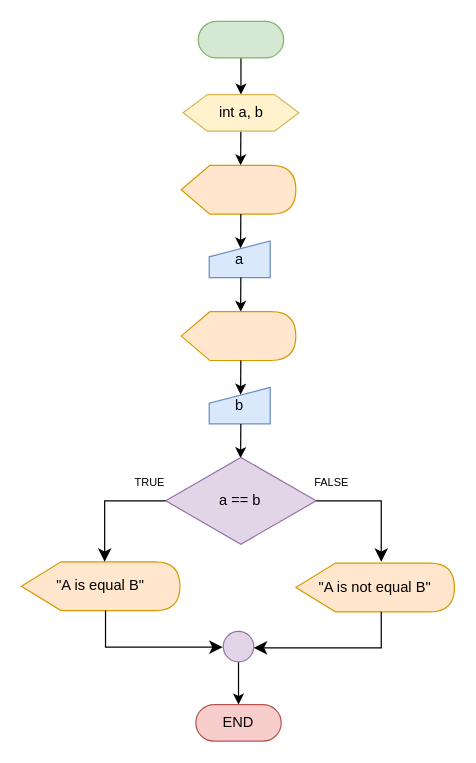
This 476x763 diagram has some shape labels left out. The centre of each missing label's shape, as x and y in pixels:
"Input A = ": (x=238, y=189)
"Input B = ": (x=238, y=335)
START: (x=240, y=39)
